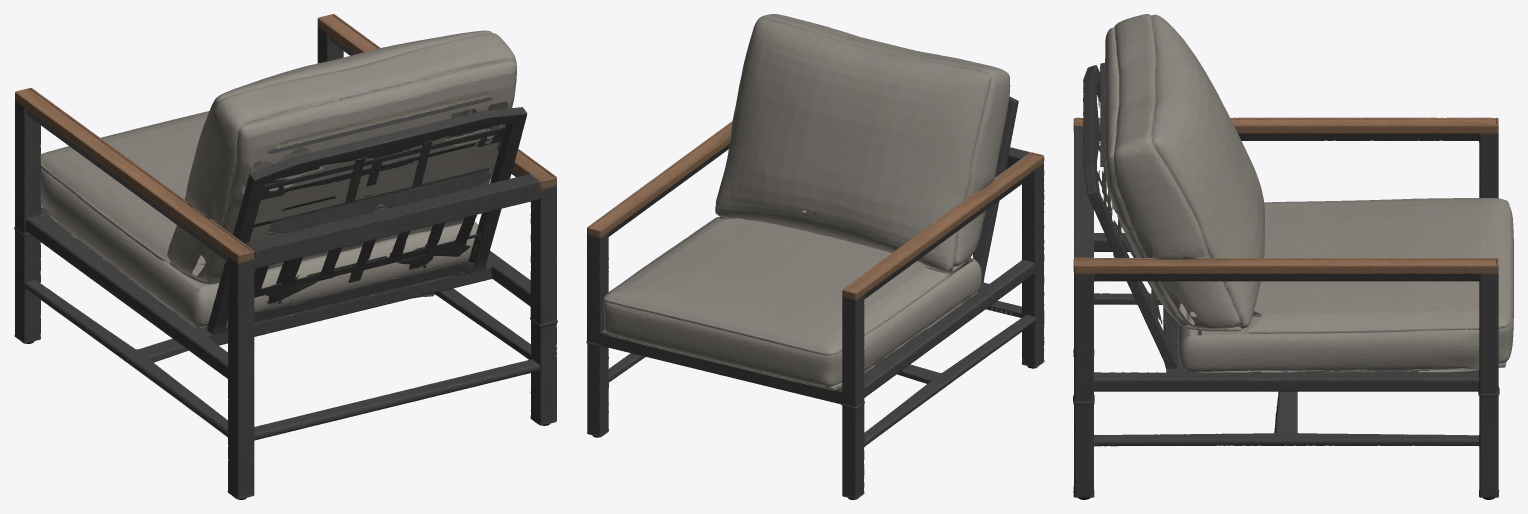
File: lounge-chair.glb
3 renders of one model, left to right at view 1: azimuth 30°, elevation 25°; view 2: azimuth 150°, elevation 25°; view 3: azimuth 270°, elevation 25°, orthographic. The views are drawn at different scales.
Visible parts, largest first — view 1: world; view 2: world; view 3: world.
Boxes of the visible parts, left/top/right/bottom form: world: left=14, top=14, right=557, bottom=499; world: left=586, top=14, right=1044, bottom=499; world: left=1073, top=14, right=1513, bottom=499.
Size of the model in its own units: 0.68 by 0.75 by 0.85.
Materials: 1 (1 with a texture image).
